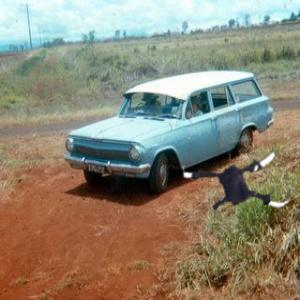drone: (184, 120, 300, 236)
